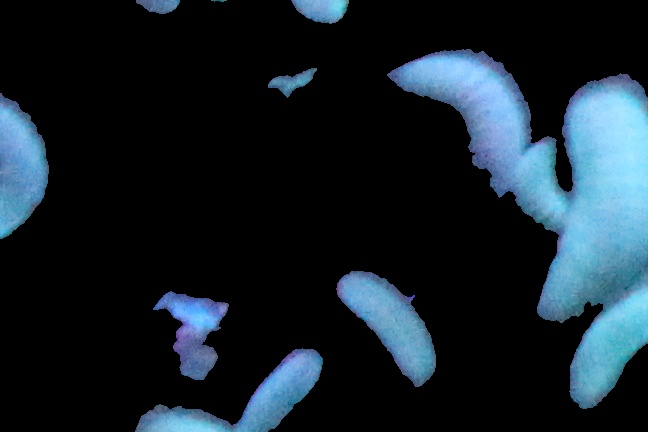larvae: (537, 76, 648, 319), (384, 54, 525, 198), (337, 276, 435, 384), (570, 275, 648, 410), (225, 353, 325, 432), (1, 95, 52, 238), (513, 138, 566, 231)
